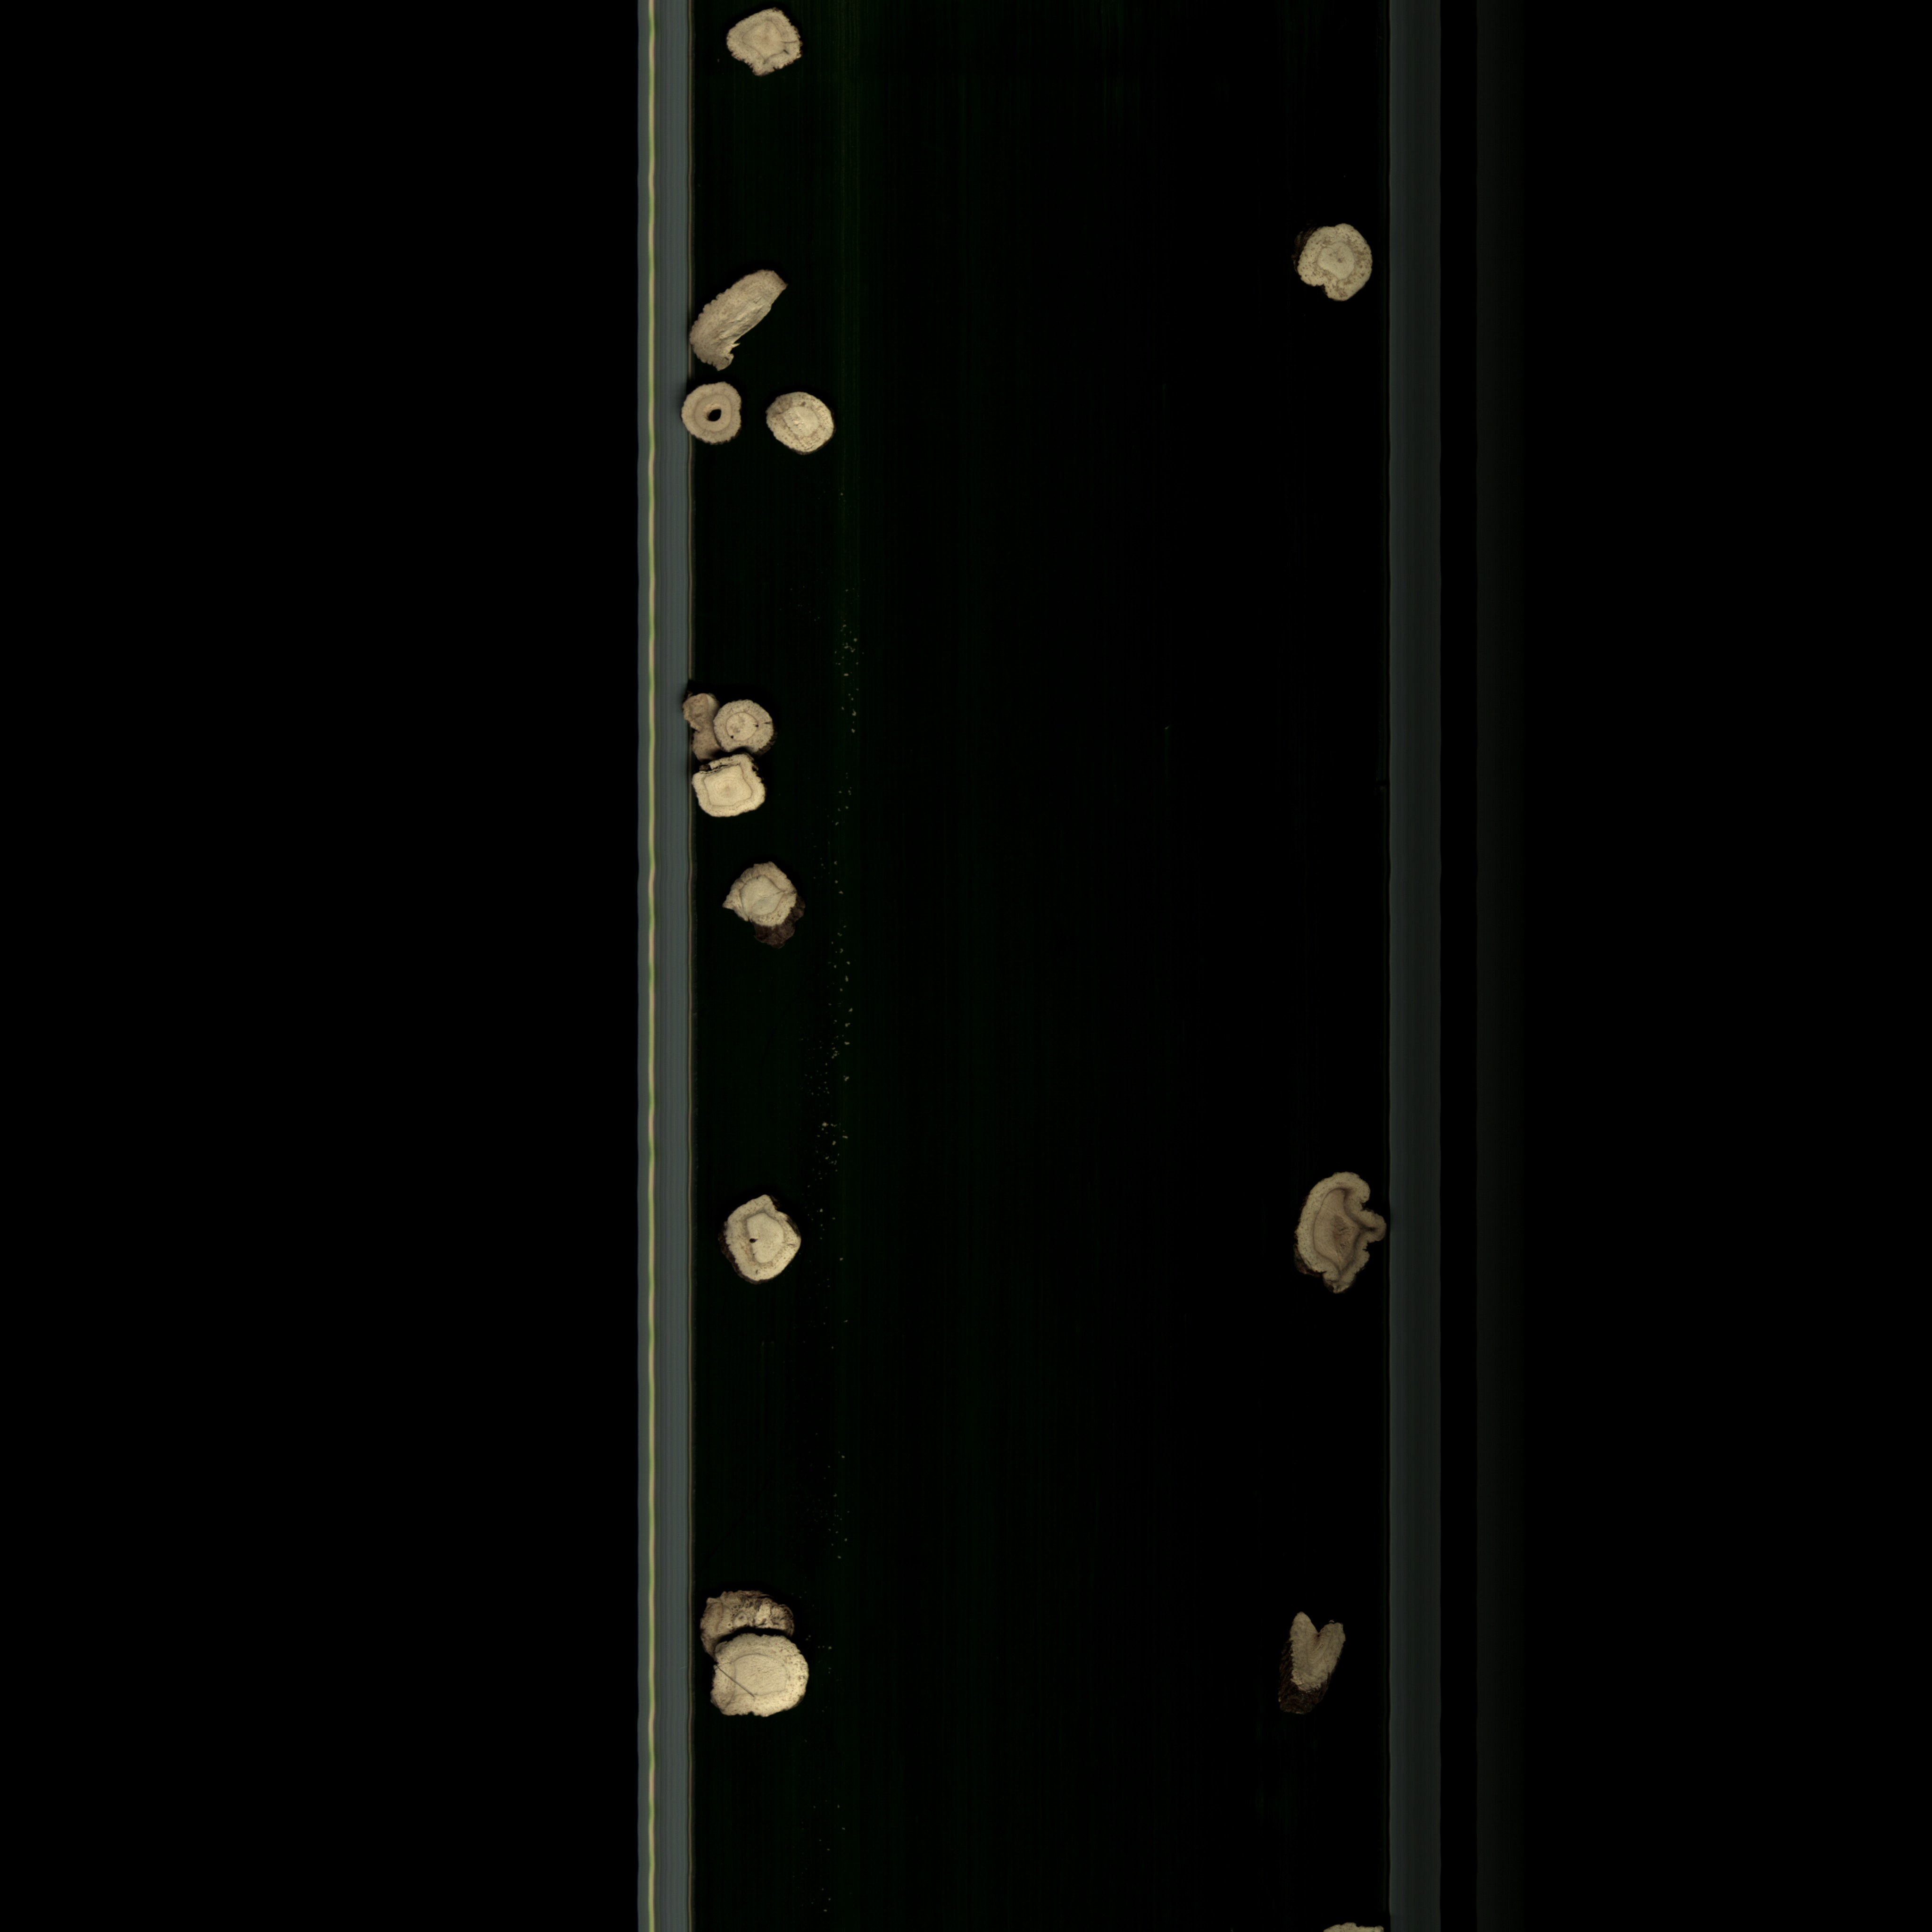bark: (720, 856, 812, 950)
debris: (688, 269, 801, 368)
hole: (711, 1196, 814, 1284), (679, 380, 750, 451), (708, 699, 786, 754)
moldy: (1283, 1154, 1389, 1304), (1270, 1603, 1348, 1721), (1295, 214, 1378, 311), (697, 1591, 803, 1661), (718, 7, 810, 81), (679, 688, 740, 763)
